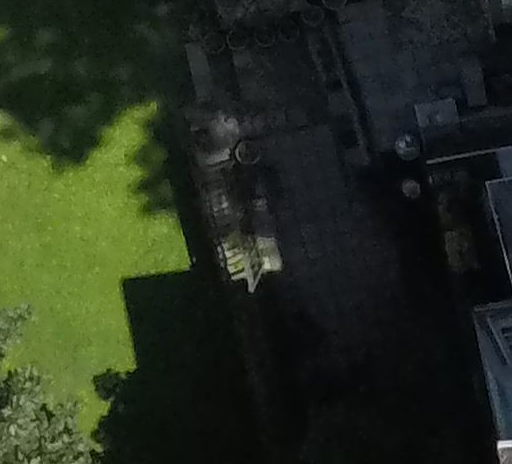container: (231, 140, 263, 167), (393, 132, 417, 158), (401, 177, 422, 202)
flower pot: (200, 29, 225, 55)
pot: (275, 18, 304, 46), (220, 27, 251, 53), (251, 22, 278, 51), (300, 7, 327, 28)
